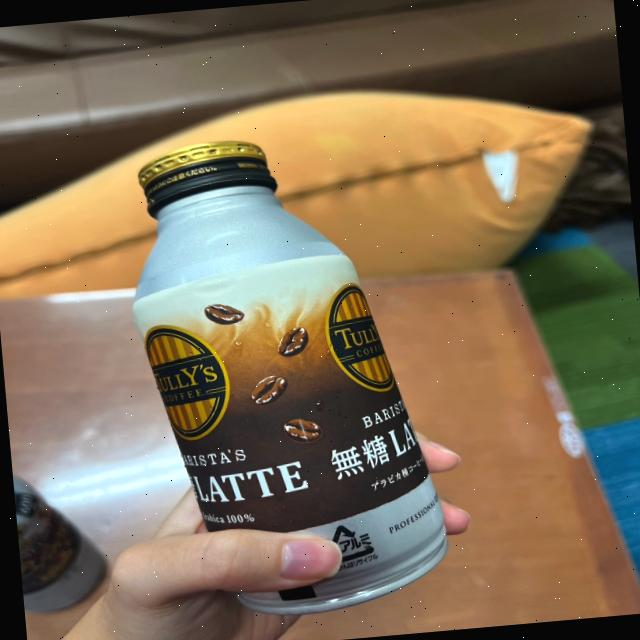coffee-latte: (89, 128, 456, 630)
